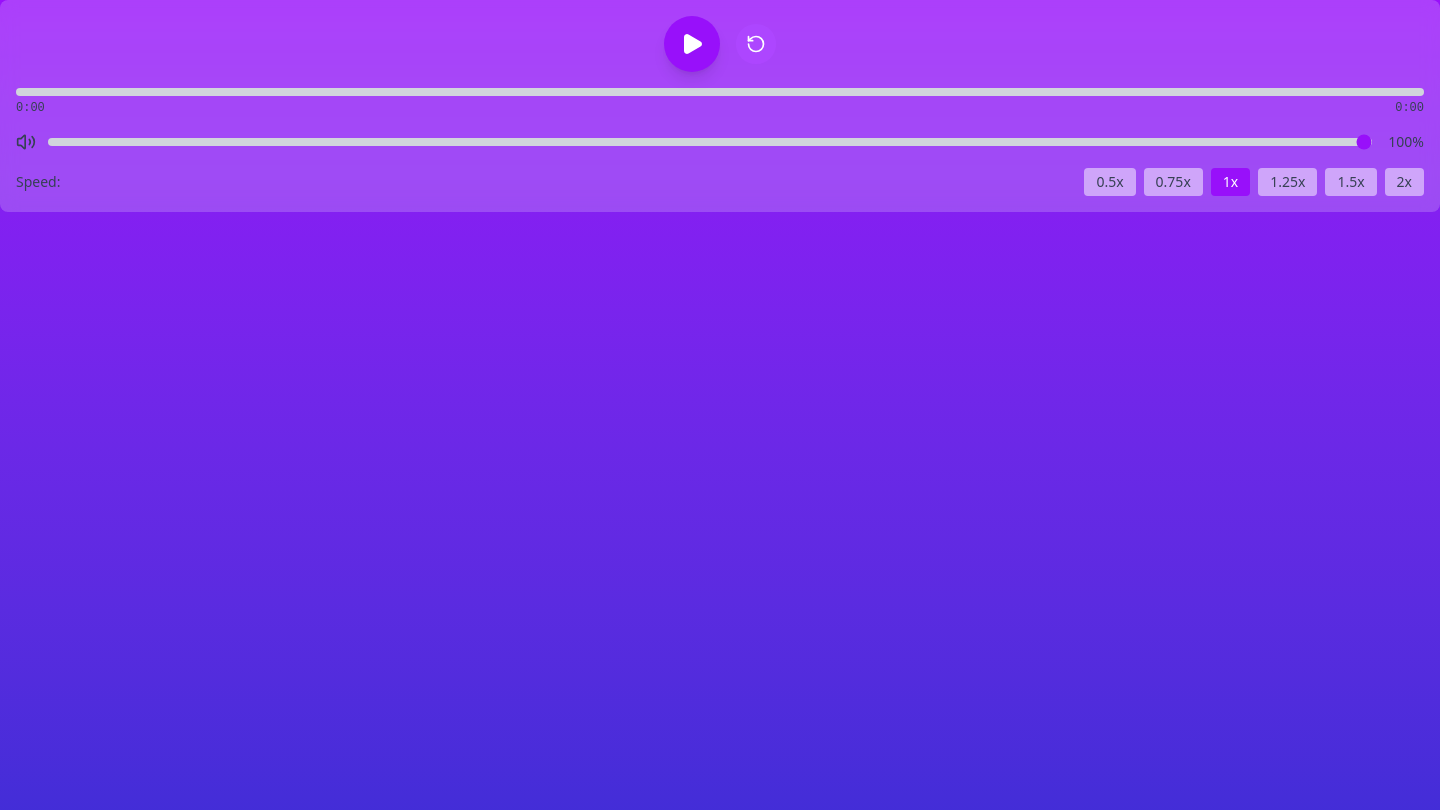
Test: VoicePlayer › toggles mute when volume icon is clicked
Click the button named "Mute".
click(26, 142)  # box [16,132,36,152]
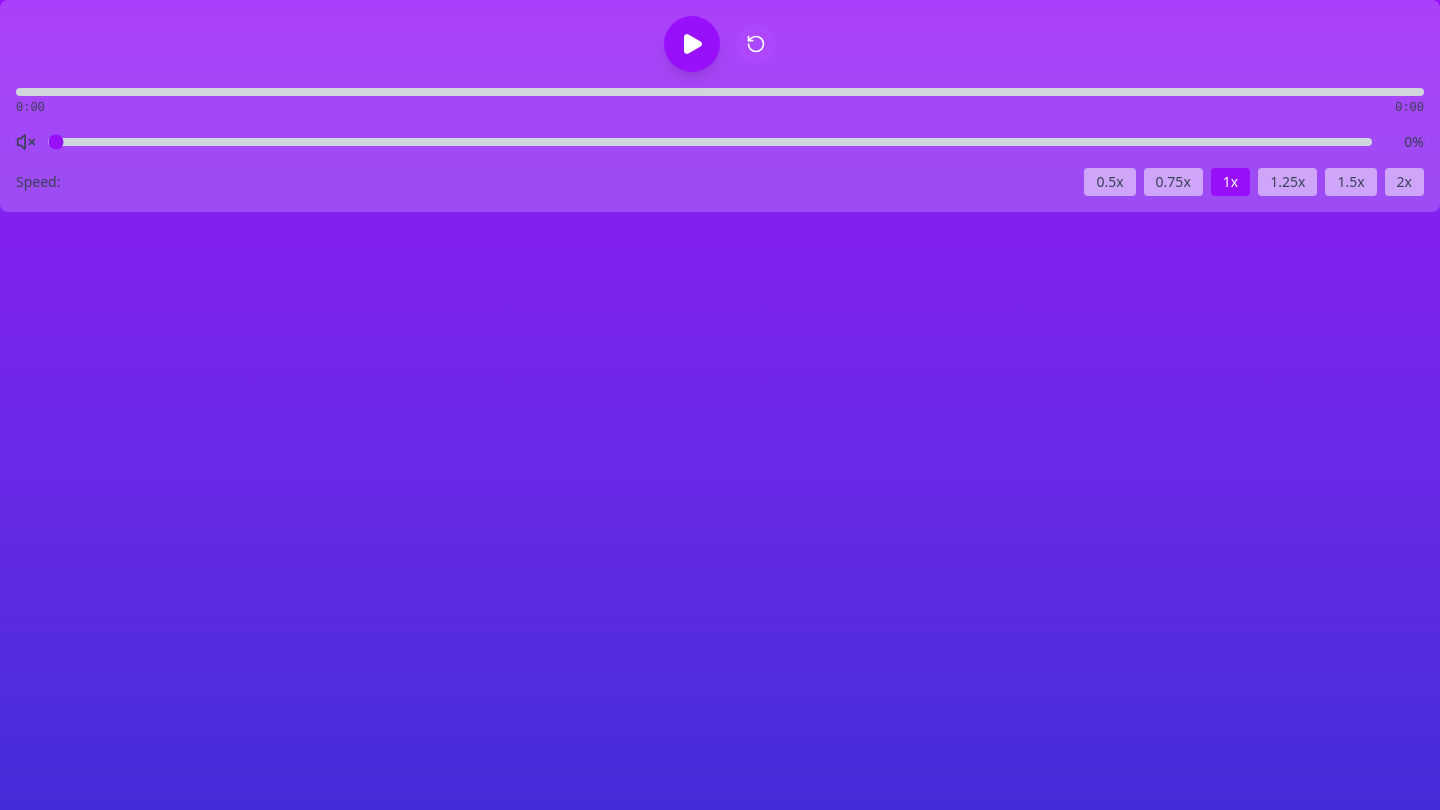
Check: the button named "Unmute" is shown, box [16,132,36,152]
